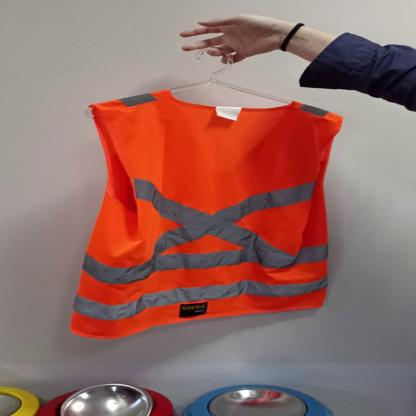colete: (67, 89, 333, 342)
